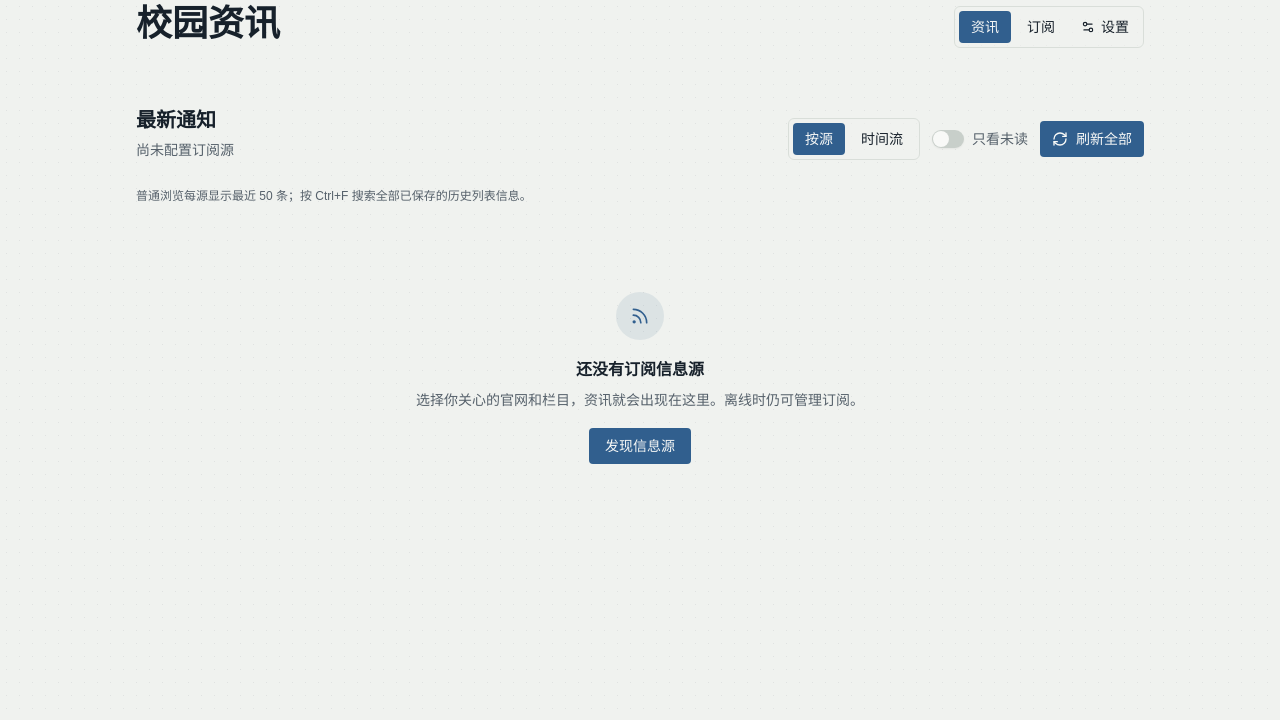
Scenario: campus-feed view › renders the settings tab with the AI connection form
The image size is (1280, 720).
Click the tab "设置". click: (1105, 27)
box: [1071, 11, 1139, 43]
(page scrolled)
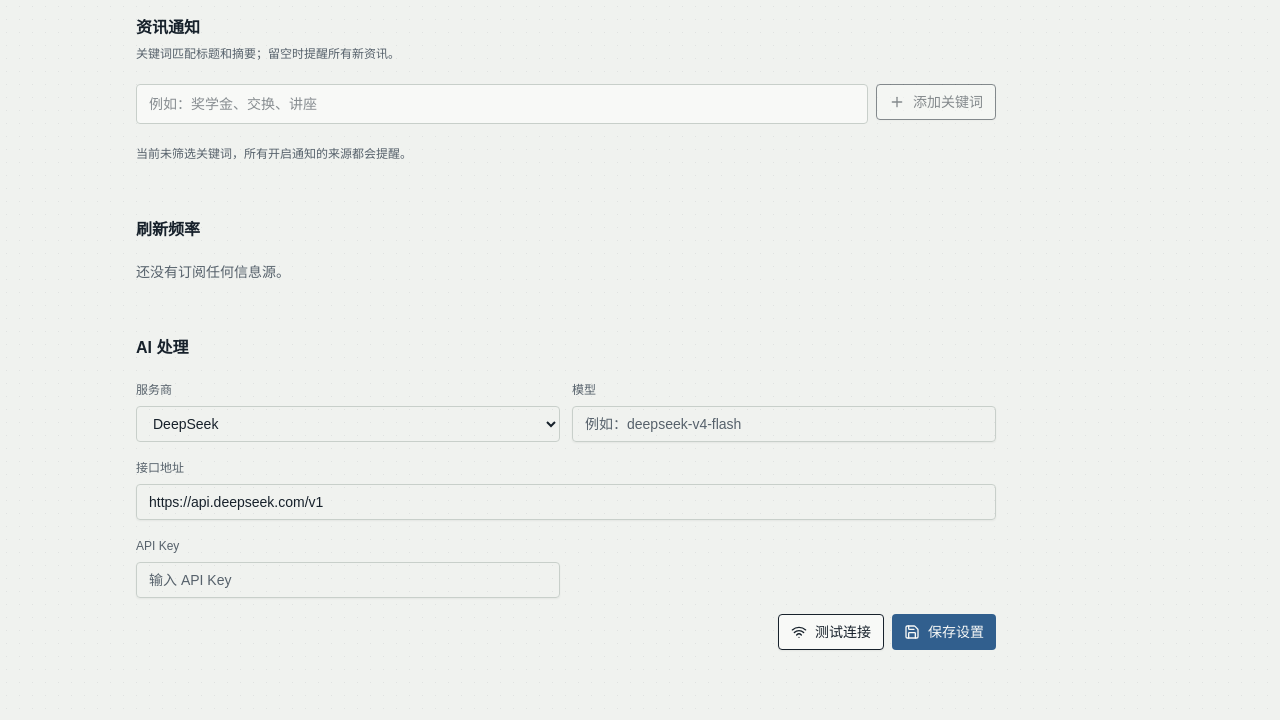
Expected: the heading "AI 处理" is shown, [136, 336, 188, 360]
Expected: the button "测试连接" is shown, [778, 614, 884, 650]
Expected: the button "保存设置" is shown, [892, 614, 996, 650]
